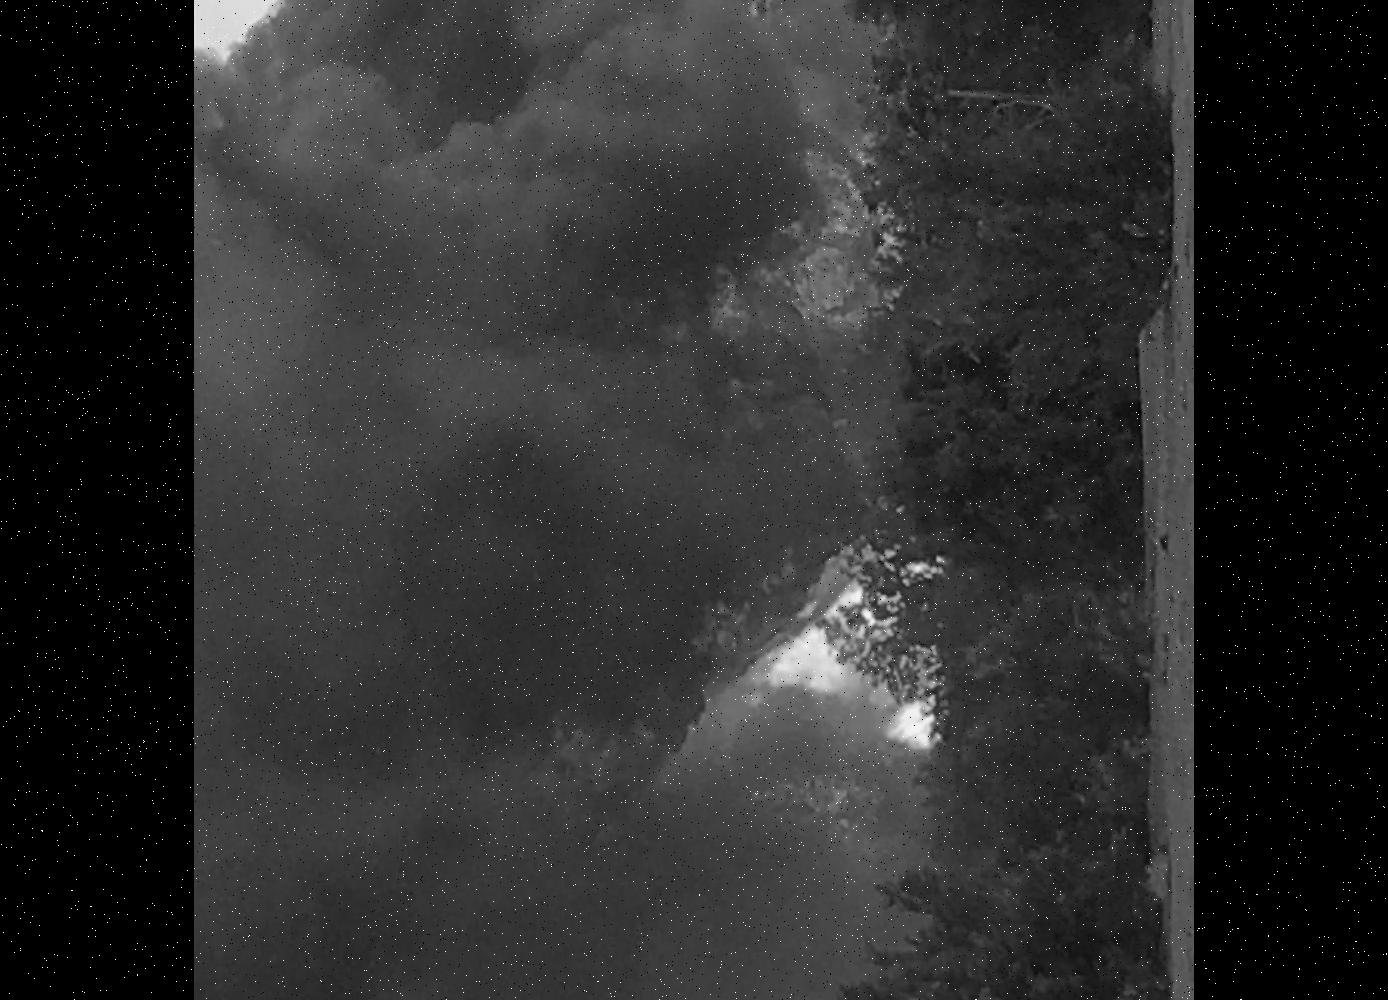fire: (647, 501, 983, 892), (695, 96, 950, 428)
